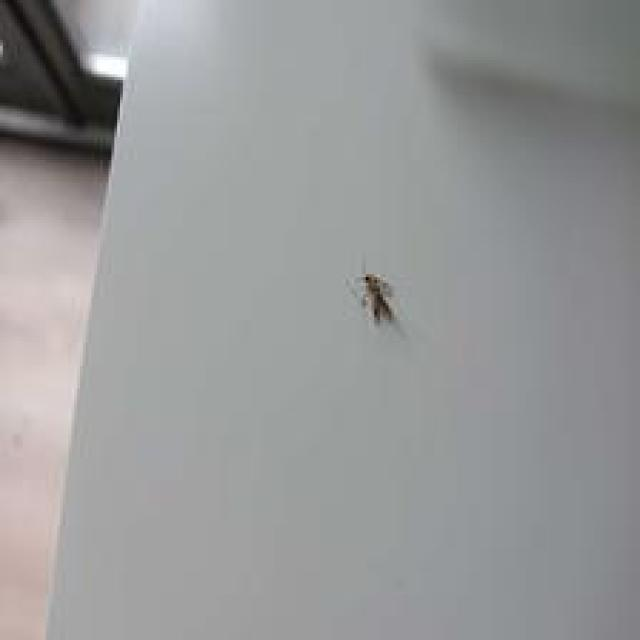Culex: (356, 270, 396, 327)
